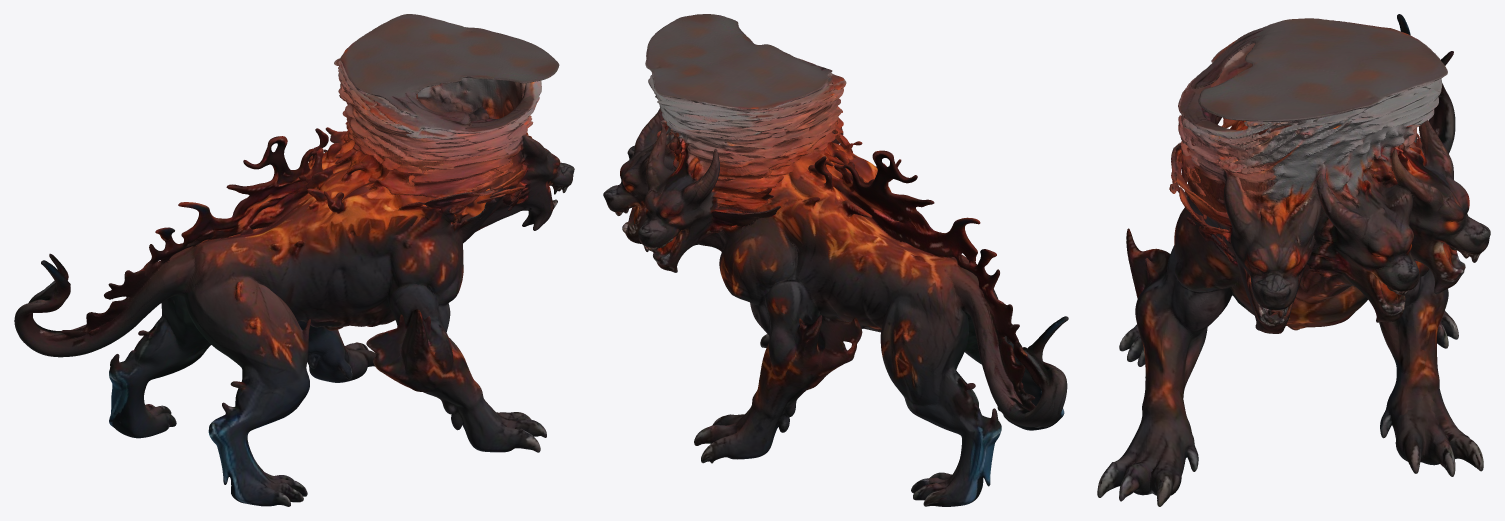
Rendered from floor5-cerberus.glb.
The picture shows the model from 3 angles, left to right: view 1: azimuth 30°, elevation 25°; view 2: azimuth 150°, elevation 25°; view 3: azimuth 270°, elevation 25°; orthographic projection. The views are drawn at different scales.
Parts seen in each view (by area): view 1: tripo_node_74ef3e23-5cac-4a5c-a77c-06f5caeb1b49; view 2: tripo_node_74ef3e23-5cac-4a5c-a77c-06f5caeb1b49; view 3: tripo_node_74ef3e23-5cac-4a5c-a77c-06f5caeb1b49.
Part boxes in pixels (<box>): tripo_node_74ef3e23-5cac-4a5c-a77c-06f5caeb1b49: <box>14,14,574,506</box>; tripo_node_74ef3e23-5cac-4a5c-a77c-06f5caeb1b49: <box>603,14,1068,506</box>; tripo_node_74ef3e23-5cac-4a5c-a77c-06f5caeb1b49: <box>1097,14,1490,506</box>.
Bounding box in the file's own units: 1 × 0.6608 × 0.5439.
Materials: 1 (1 with a texture image).
